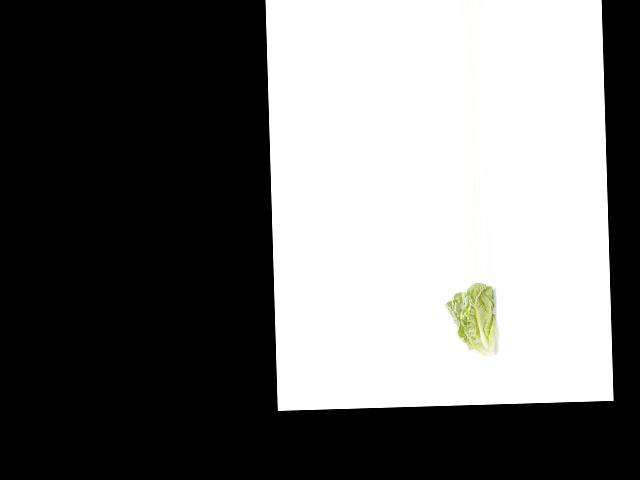lettuce: (444, 282, 508, 360)
